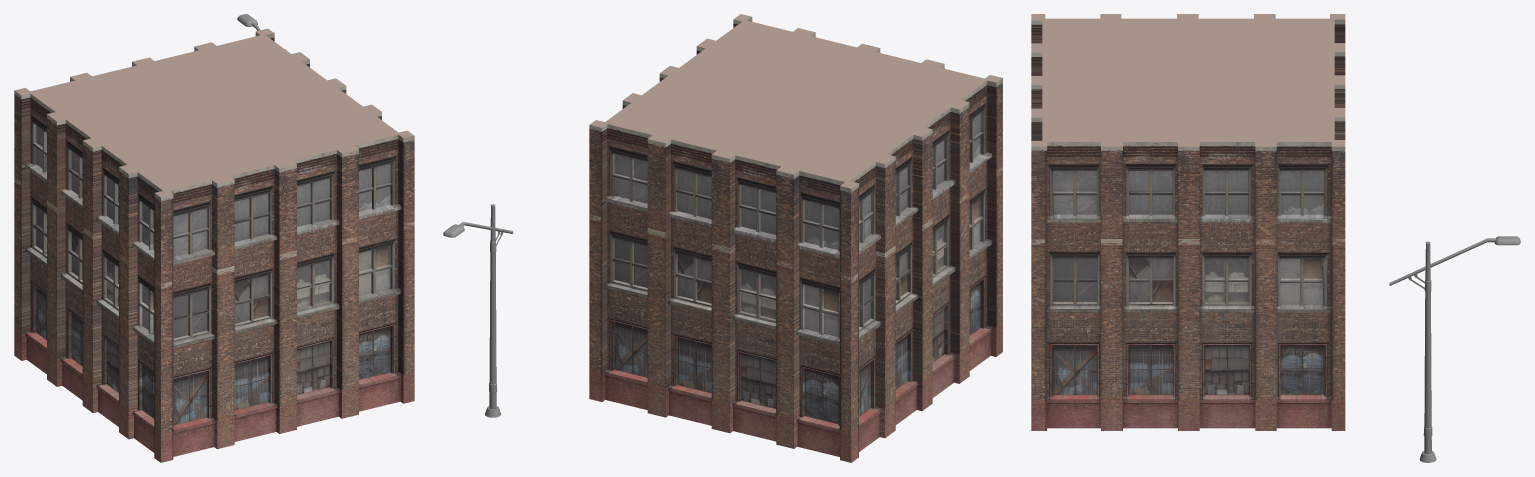
The model's file is building.glb.
The picture shows the model from 3 angles, left to right: view 1: azimuth 30°, elevation 25°; view 2: azimuth 150°, elevation 25°; view 3: azimuth 270°, elevation 25°; orthographic projection. The views are drawn at different scales.
Parts seen in each view (by area): view 1: Plane.003_1; view 2: Plane.003_1, Cone_4; view 3: Plane.003_1, Cone_4.
Boxes of the visible parts, bbox=[...] form: Plane.003_1: bbox=[14, 28, 414, 462]; Plane.003_1: bbox=[589, 14, 1002, 462]; Cone_4: bbox=[443, 204, 513, 417]; Plane.003_1: bbox=[1031, 14, 1345, 430]; Cone_4: bbox=[1389, 236, 1520, 462].
Size of what is drawn, in the model's own units: 9.94 by 8 by 12.47.
4 materials, 2 textured.
